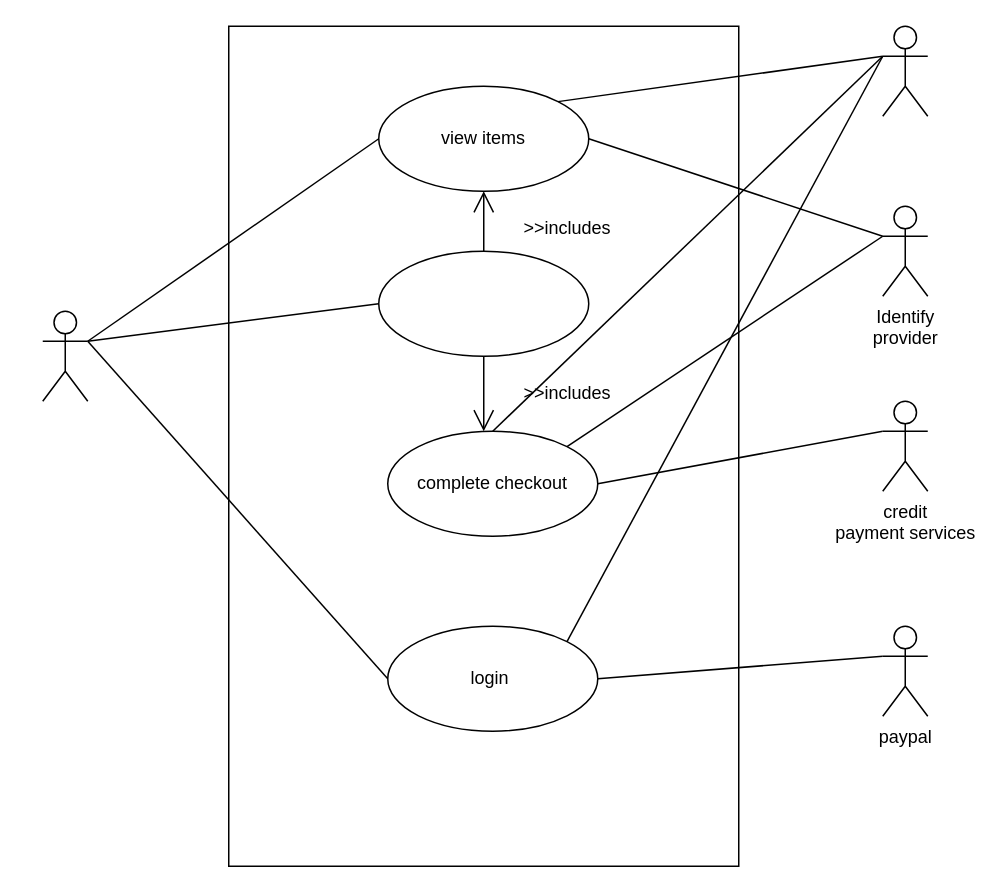
This 1001x893 diagram has some shape labels left out. Here are the shapes that lost their labels. From the top down, the centre of each, then its label:
At (x=904, y=70): "<<services>> authendtion".
At (x=483, y=303): "make purchase".
At (x=64, y=355): "Customer".
